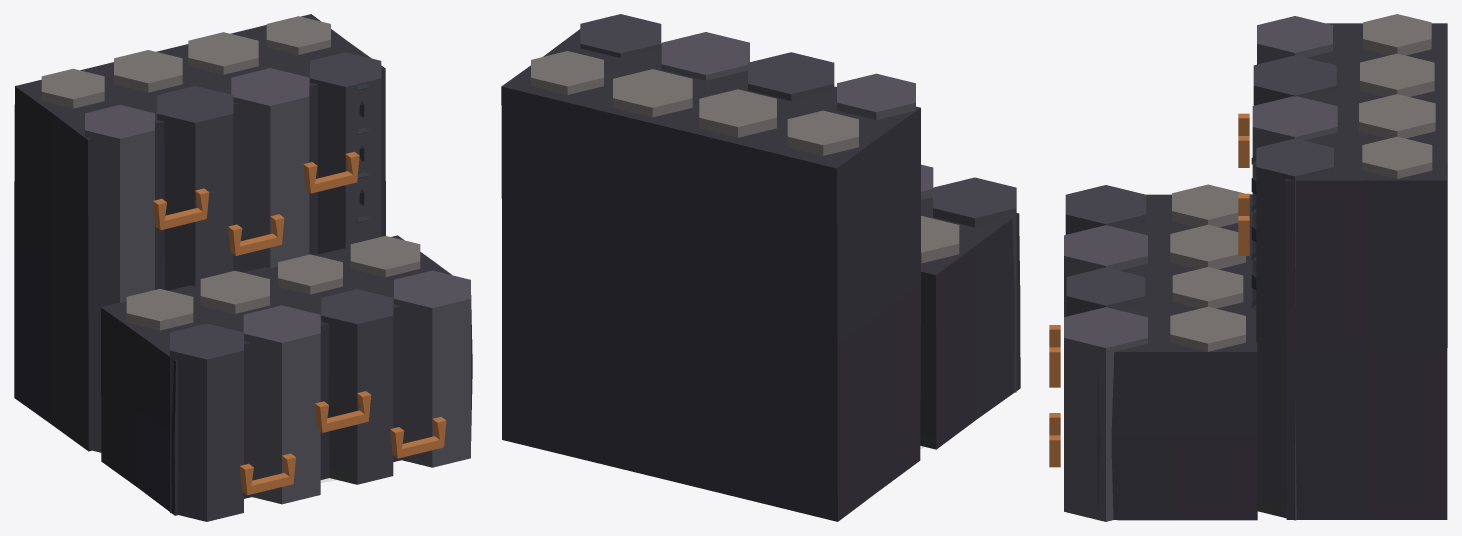
Rendered from climb_wall_basalt.glb.
3 views of the same model, side by side, from view 1: azimuth 30°, elevation 25°; view 2: azimuth 150°, elevation 25°; view 3: azimuth 270°, elevation 25° (orthographic). The views are drawn at different scales.
Visible parts, largest first — view 1: climb_wall_basalt; view 2: climb_wall_basalt; view 3: climb_wall_basalt.
Part boxes in pixels (bbox=[...]): climb_wall_basalt: bbox=[14, 14, 472, 521]; climb_wall_basalt: bbox=[501, 14, 1020, 521]; climb_wall_basalt: bbox=[1049, 14, 1447, 521].
Bounding box in the file's own units: 1 × 1.02 × 1.05.
